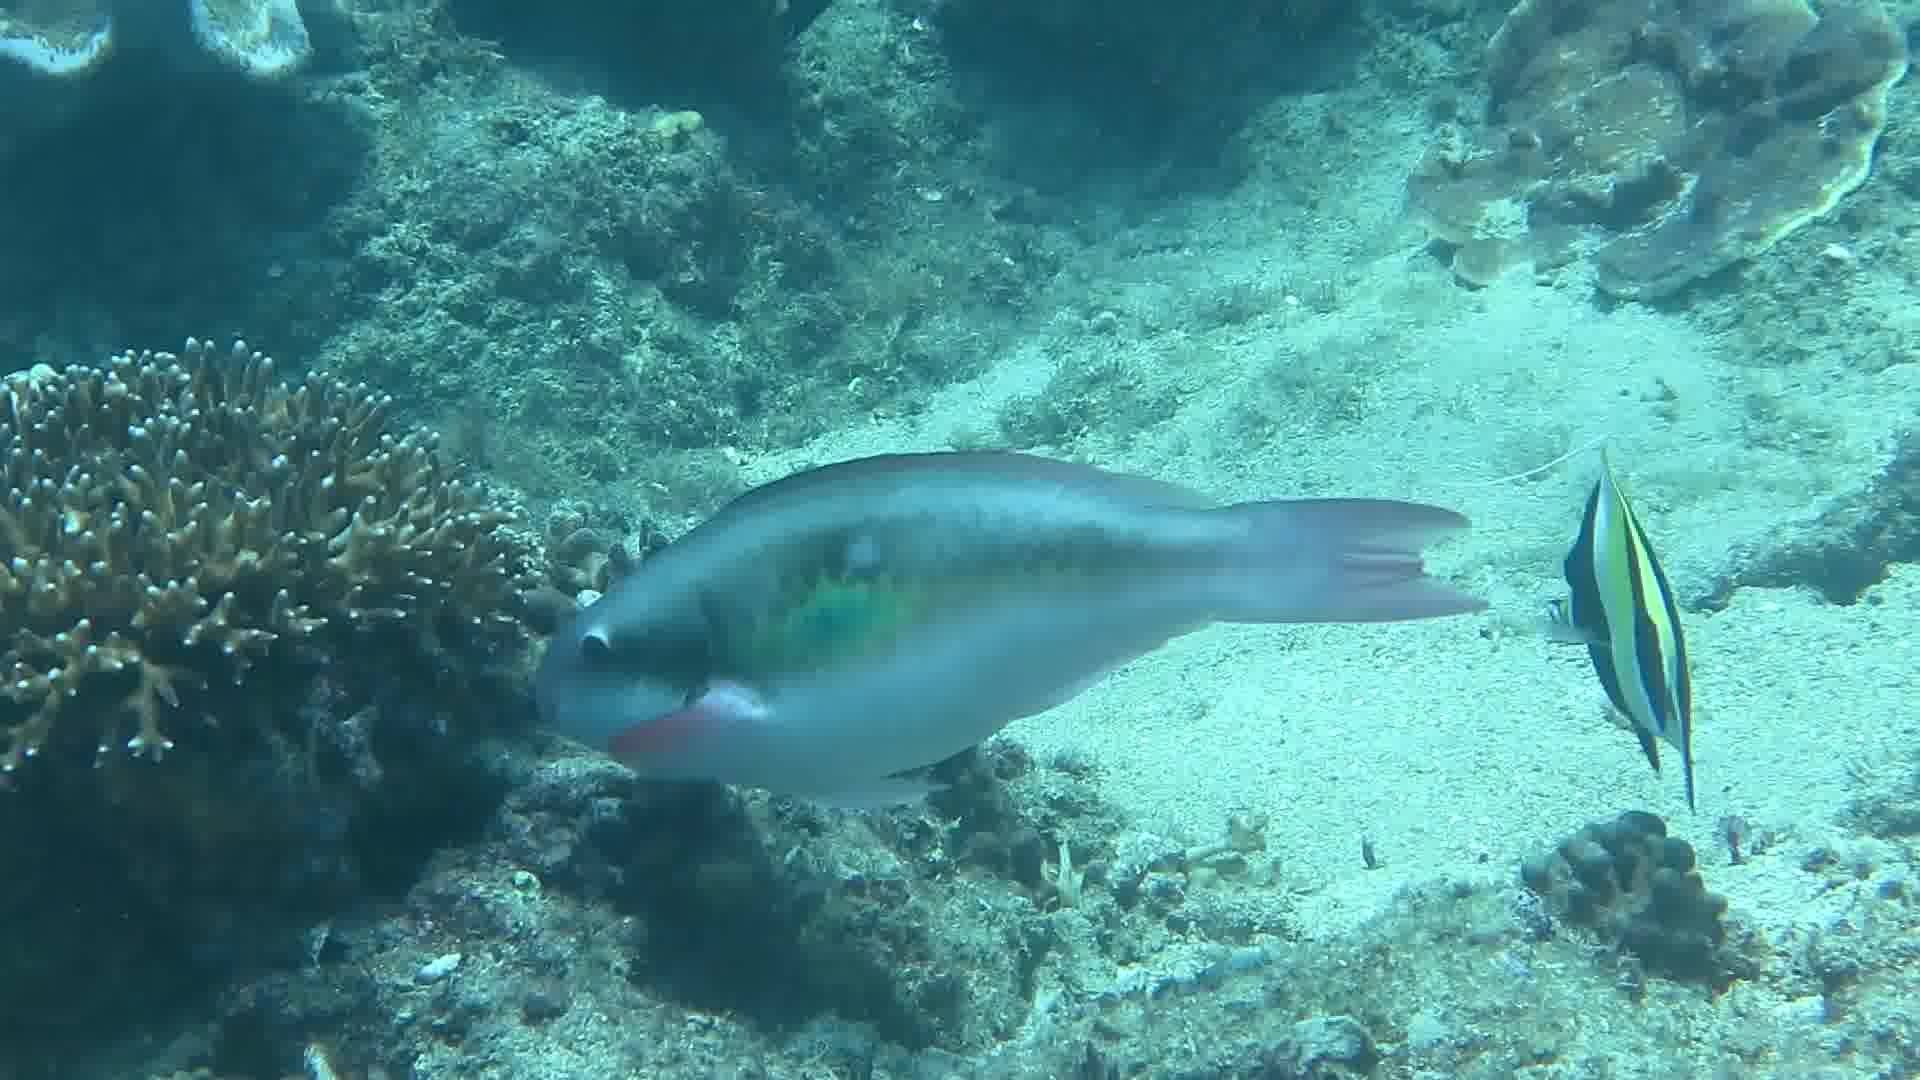Zanclus cornutus: (1524, 452, 1771, 802)
